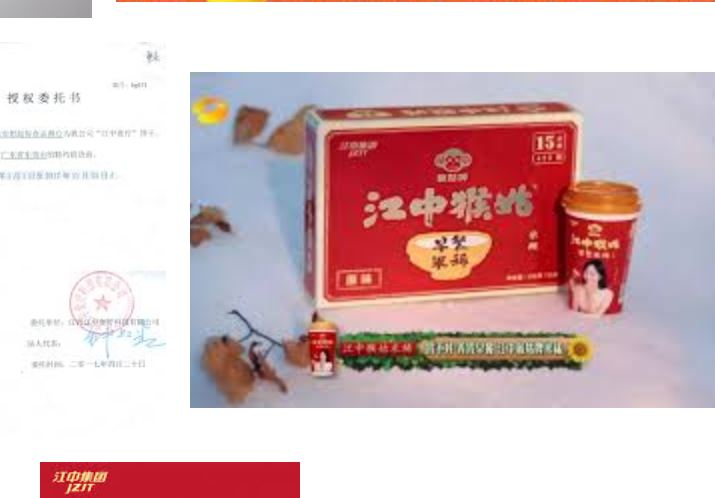box: (309, 103, 570, 293)
cup: (564, 179, 637, 318)
